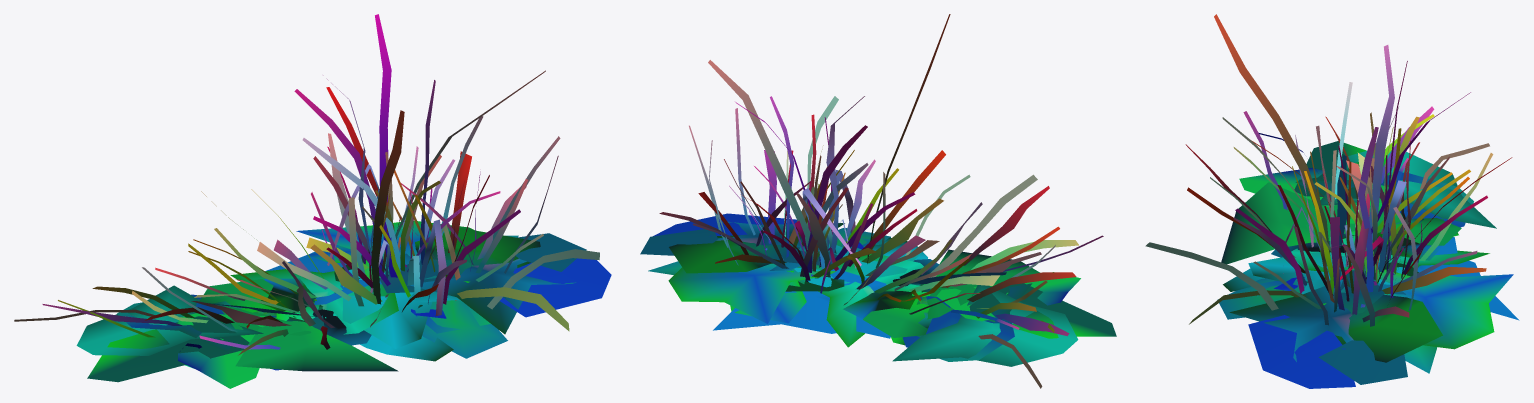
The model's file is Wild_Grass_vdilbaiia_Mid_vdilbaiia_VarL_LOD2.fbx.
3 views of the same model, side by side, from view 1: azimuth 30°, elevation 25°; view 2: azimuth 150°, elevation 25°; view 3: azimuth 270°, elevation 25° (orthographic). The views are drawn at different scales.
Parts seen in each view (by area): view 1: _kkyn_VarL_LOD3; view 2: _kkyn_VarL_LOD3; view 3: _kkyn_VarL_LOD3.
Boxes of the visible parts, x1,y1,x2,y2 form: _kkyn_VarL_LOD3: (14, 14, 611, 388); _kkyn_VarL_LOD3: (640, 14, 1116, 388); _kkyn_VarL_LOD3: (1145, 14, 1519, 388).
Bounding box in the file's own units: 129 × 64.13 × 85.24.
